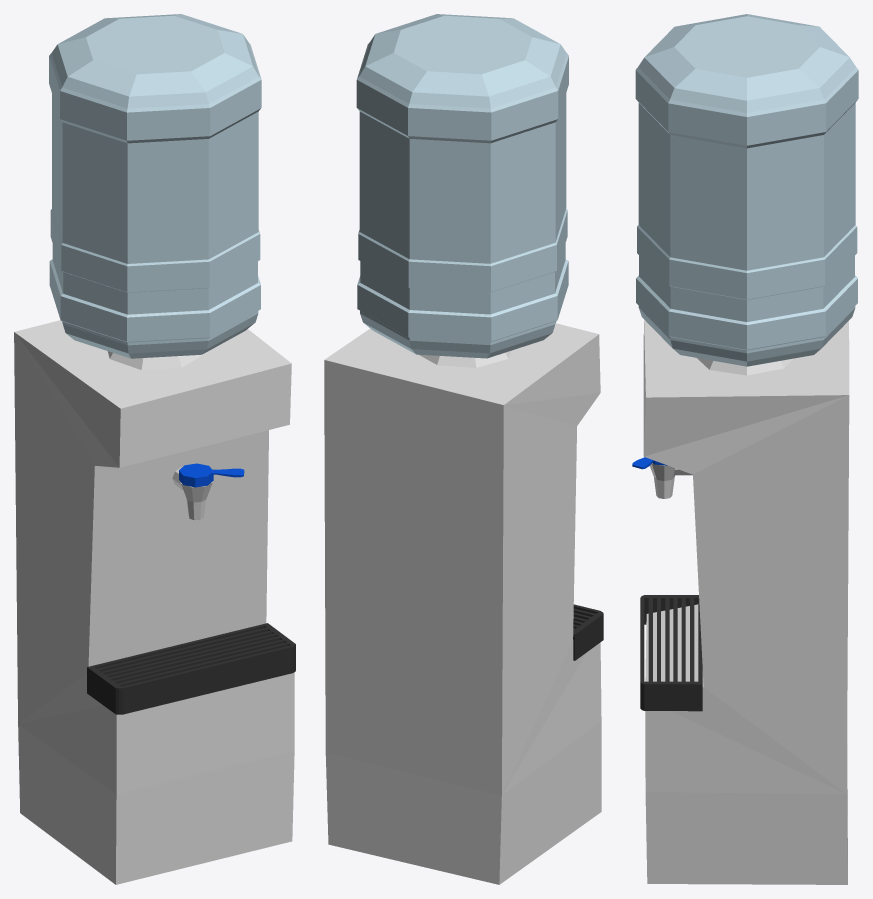
Rendered from water dispenser.glb.
3 renders of one model, left to right at view 1: azimuth 30°, elevation 25°; view 2: azimuth 150°, elevation 25°; view 3: azimuth 270°, elevation 25°, orthographic.
Parts seen in each view (by area): view 1: Cube.011, WaterContainer, Cube.014, TapObject, Cylinder.004, Cylinder.006; view 2: Cube.011, WaterContainer, Cube.014, Cylinder.004; view 3: Cube.011, WaterContainer, Cube.014, Cylinder.004, Cylinder.006.
Boxes of the visible parts, x1,y1,x2,y2 form: Cube.011: [14, 320, 294, 884]; WaterContainer: [49, 14, 261, 358]; Cube.014: [87, 623, 295, 714]; TapObject: [179, 463, 244, 487]; Cylinder.004: [107, 351, 205, 370]; Cylinder.006: [172, 467, 212, 520]; Cube.011: [324, 323, 601, 884]; WaterContainer: [356, 14, 568, 358]; Cube.014: [573, 604, 603, 660]; Cylinder.004: [419, 351, 510, 367]; Cube.011: [643, 319, 849, 884]; WaterContainer: [635, 14, 858, 366]; Cube.014: [640, 595, 702, 711]; Cylinder.004: [697, 358, 793, 375]; Cylinder.006: [650, 463, 692, 498].
Size of the model in its own units: 2.12 by 8.35 by 2.15.
